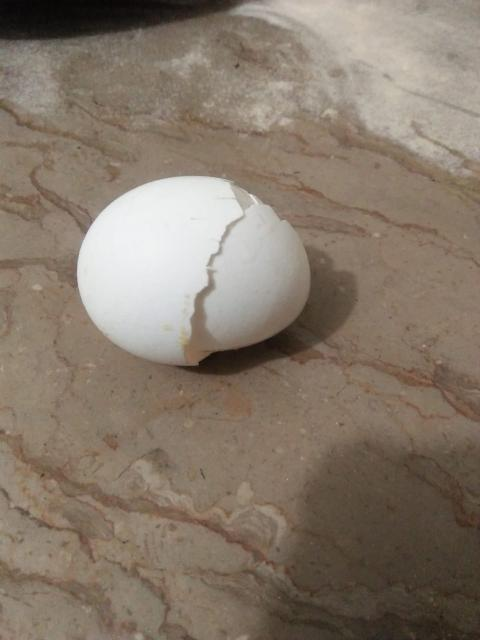Roto: (75, 174, 312, 367)
